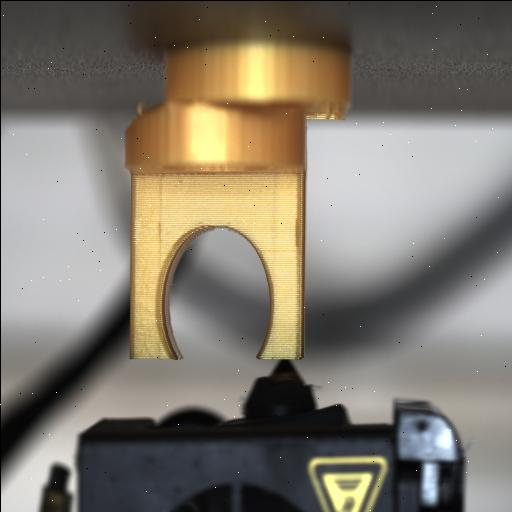layer_shift: (124, 87, 354, 126)
